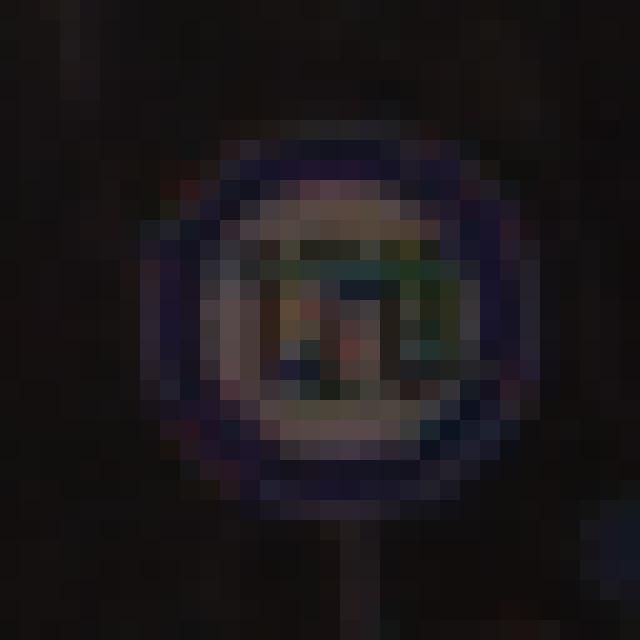SPEED LIMIT 120: (135, 101, 553, 519)
